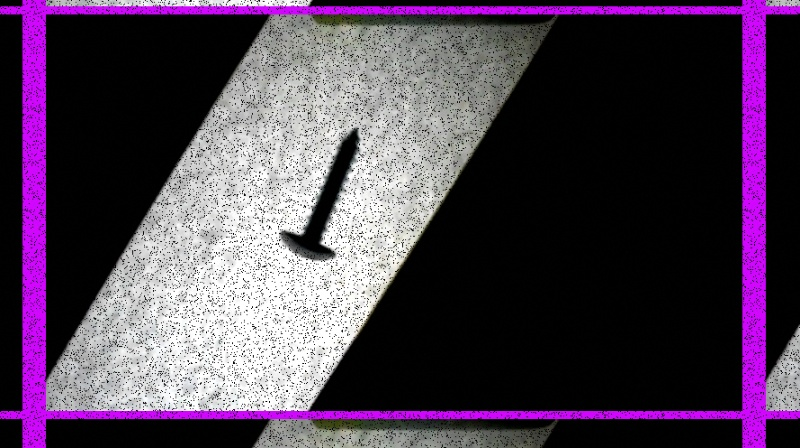S003: (277, 126, 362, 262)
